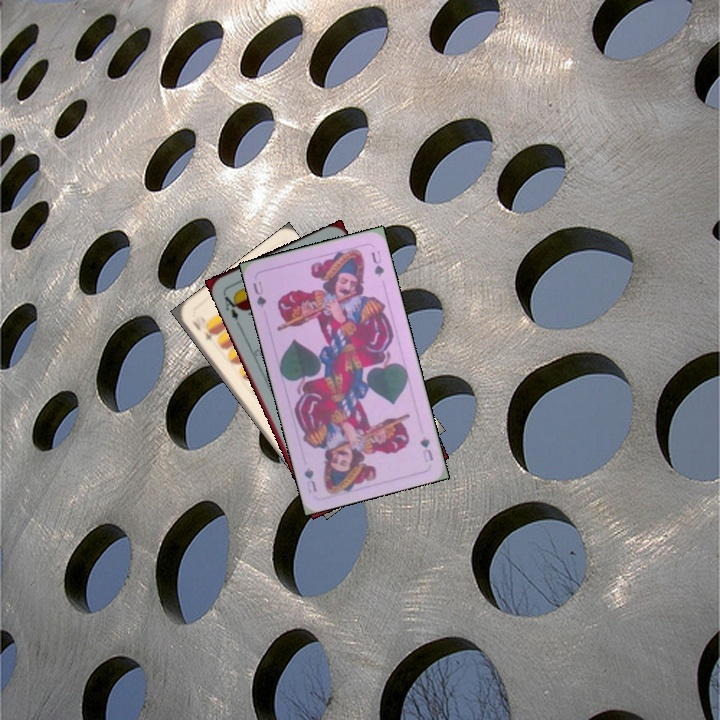E10: (187, 316, 218, 348)
EA: (219, 289, 243, 327)
GU: (249, 277, 269, 310), (416, 432, 436, 465)
